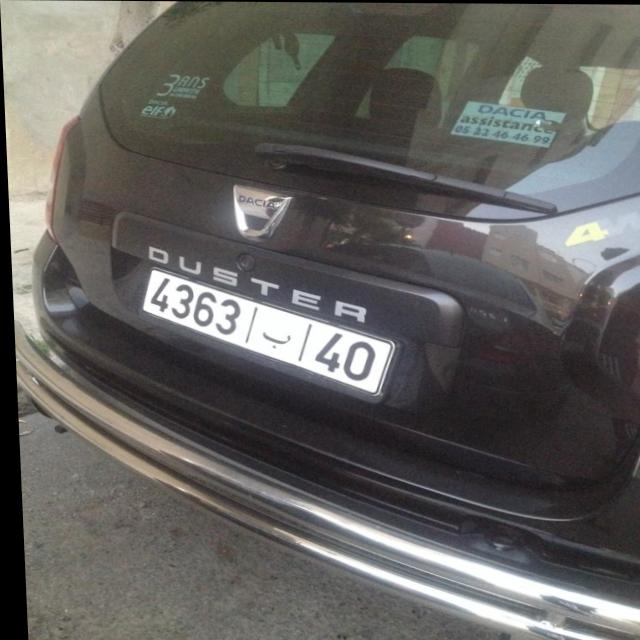License-Plate: (141, 268, 392, 394)
